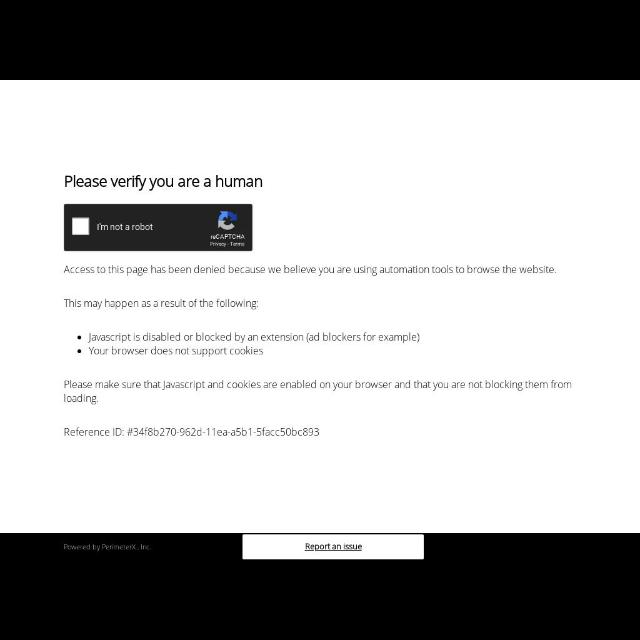checkbox: (72, 217, 88, 235)
icon: (74, 349, 84, 355), (78, 334, 82, 344)
image: (215, 211, 239, 231)
text: (62, 379, 570, 405), (62, 264, 556, 274), (88, 332, 420, 344), (65, 426, 321, 440), (64, 176, 264, 190), (64, 298, 262, 312), (90, 348, 266, 357), (64, 543, 150, 551), (94, 222, 156, 232), (210, 234, 248, 248), (304, 544, 362, 552)
textbutton: (242, 534, 426, 560)
